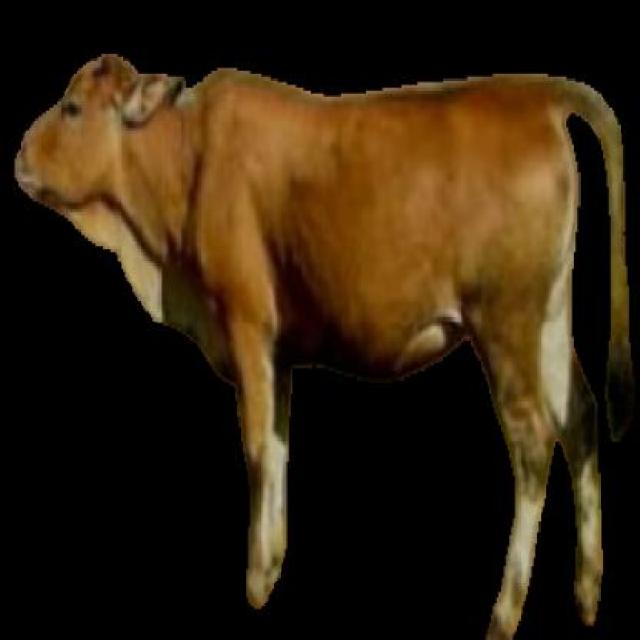Cow: (11, 51, 638, 638)
